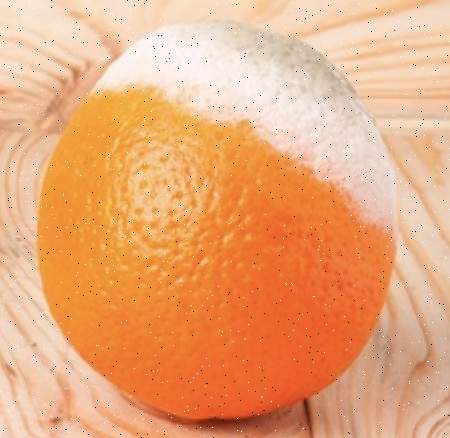rotten_orange: (37, 20, 398, 420)
